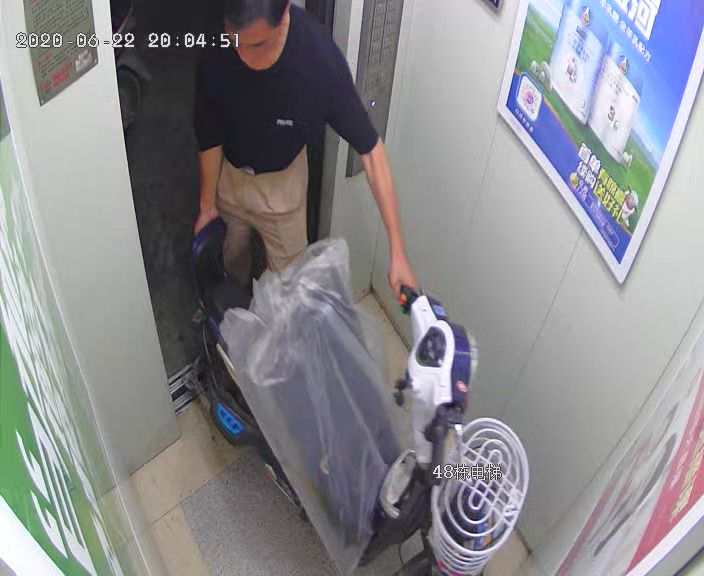Electric-bicycle: (186, 218, 530, 574)
